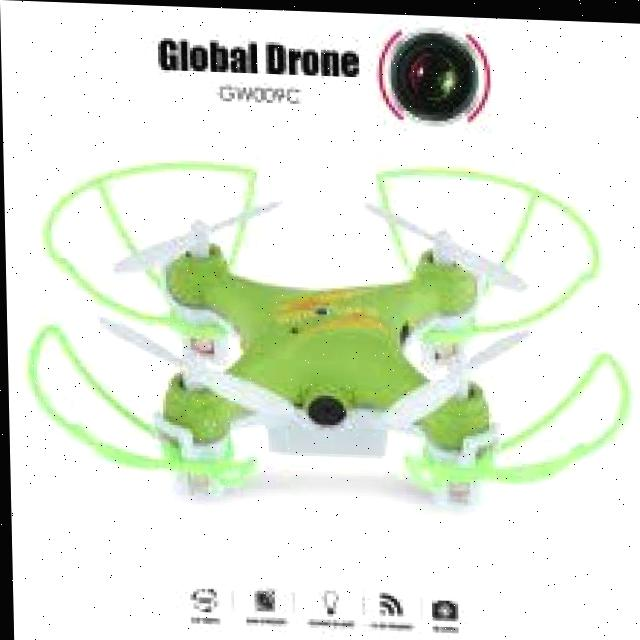drone: (3, 147, 640, 536)
